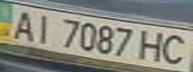0: (75, 20, 100, 53)
7: (54, 16, 81, 50), (112, 25, 139, 58)
8: (93, 24, 118, 56)
A: (6, 7, 39, 42)
C: (157, 32, 193, 65)
H: (136, 28, 169, 63)
I: (27, 11, 57, 44)
